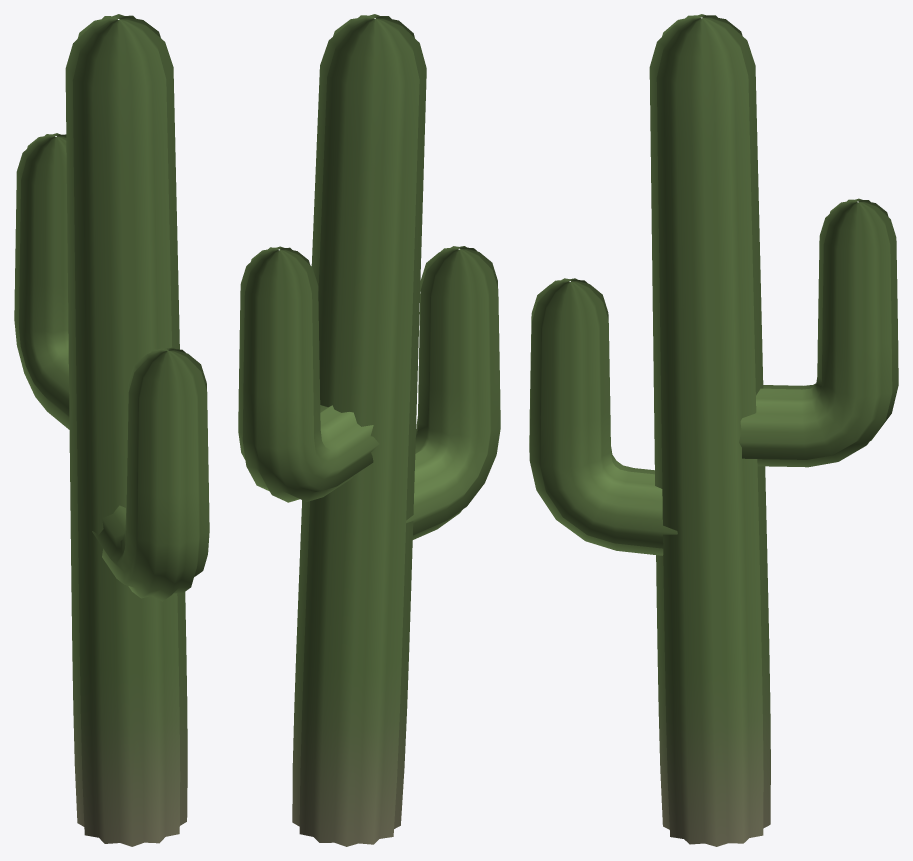
The model's file is cactus.saguaro.green.glb.
The picture shows the model from 3 angles, left to right: view 1: azimuth 30°, elevation 25°; view 2: azimuth 150°, elevation 25°; view 3: azimuth 270°, elevation 25°; orthographic projection. The views are drawn at different scales.
Parts seen in each view (by area): view 1: cactus_saguaro_green; view 2: cactus_saguaro_green; view 3: cactus_saguaro_green.
Boxes of the visible parts, x1,y1,x2,y2 form: cactus_saguaro_green: (14, 14, 209, 846); cactus_saguaro_green: (238, 14, 500, 846); cactus_saguaro_green: (529, 14, 898, 846).
Size of what is drawn, in the model's own units: 0.5354 by 3.39 by 1.42.
